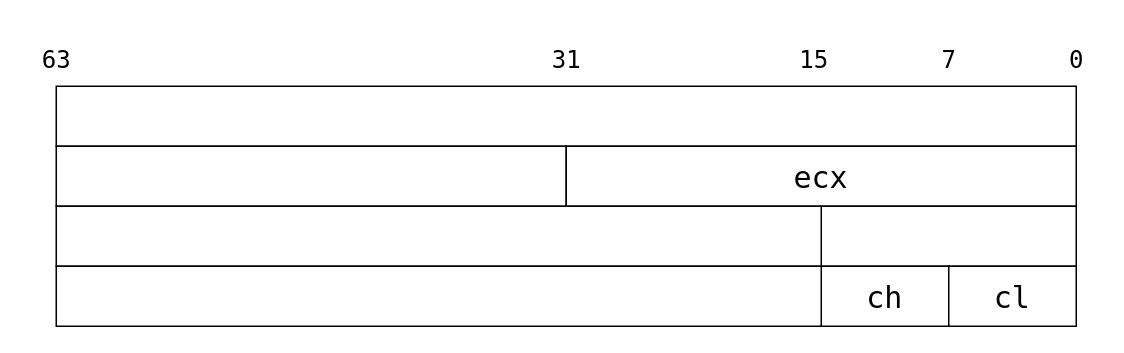
Image size: 1124x353. Some labels were removed from this diagram. Here are the shapes that lost their labels. From the top down, the centre of each, then its label:
the point at 565,115: rcx(r1)
the point at 948,235: cx
